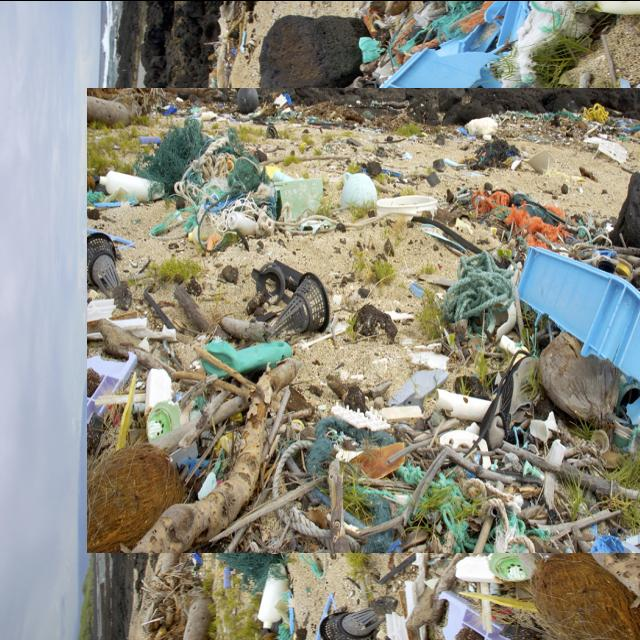garbage: (130, 44, 640, 597)
